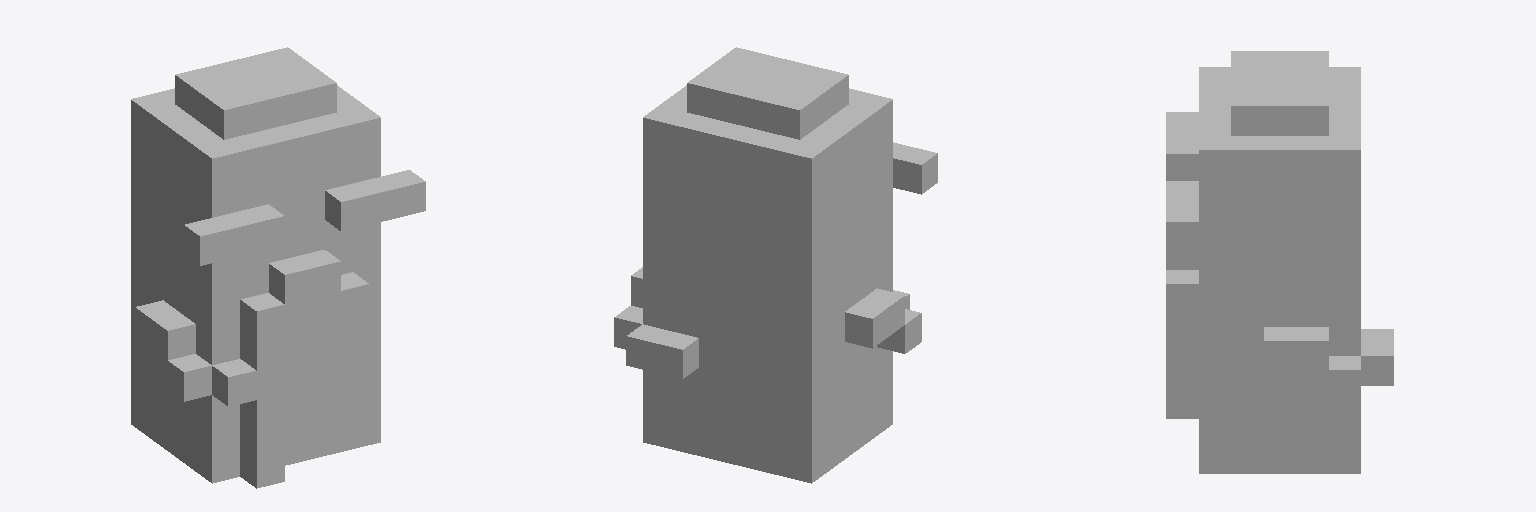
The model's file is chr_old.obj.
The picture shows the model from 3 angles: view 1: azimuth 30°, elevation 25°; view 2: azimuth 150°, elevation 25°; view 3: azimuth 270°, elevation 25°; orthographic projection.
Visible parts, largest first — view 1: chr_old; view 2: chr_old; view 3: chr_old.
Boxes of the visible parts, x1,y1,x2,y2 form: chr_old: [131, 47, 425, 488]; chr_old: [614, 47, 937, 483]; chr_old: [1166, 51, 1393, 473].
Bounding box in the file's own units: 8 × 12 × 7.